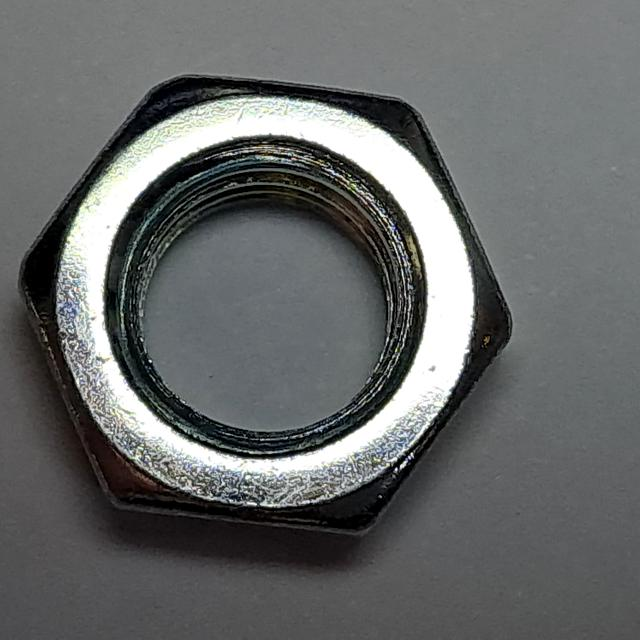Excellent: (1, 55, 525, 554)
